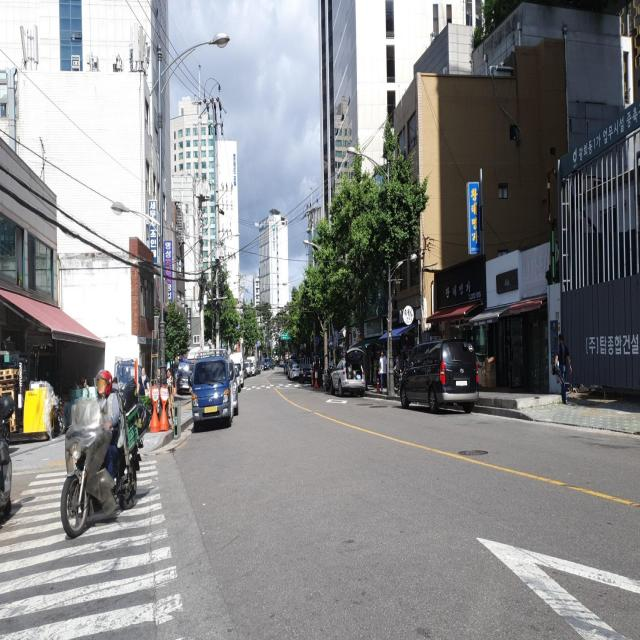횡단보도: (0, 459, 184, 639), (241, 384, 311, 394)
